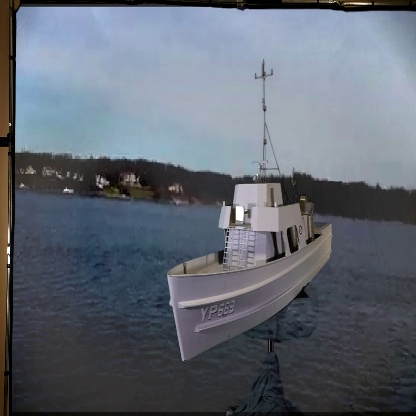YP689: (164, 58, 335, 364)
